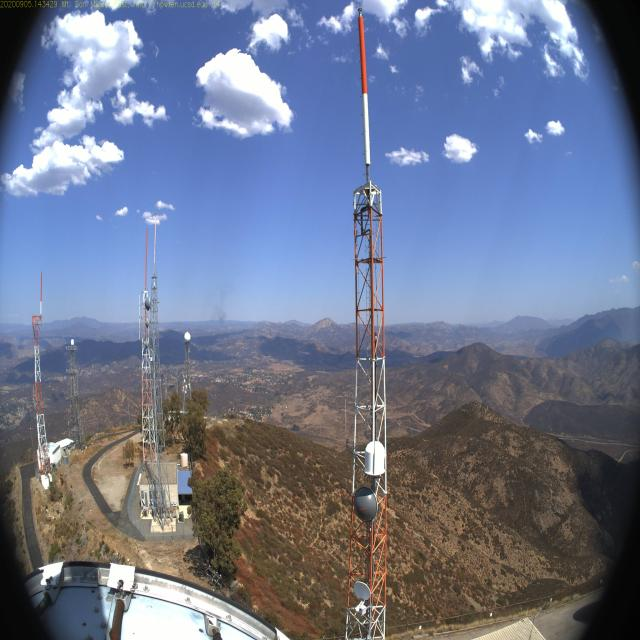smoke: (206, 276, 232, 335)
